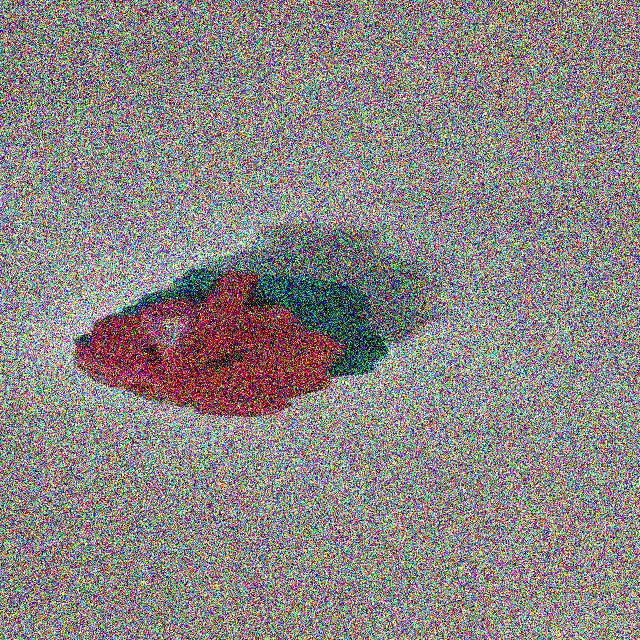House: (60, 265, 396, 417)
